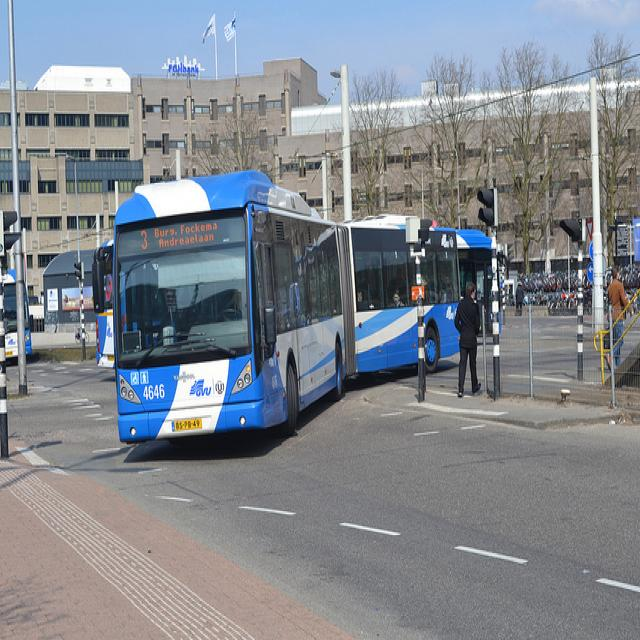AB: (84, 163, 511, 470)
